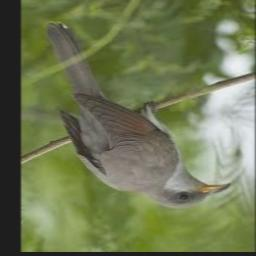Cuckoo: (47, 21, 229, 209)
